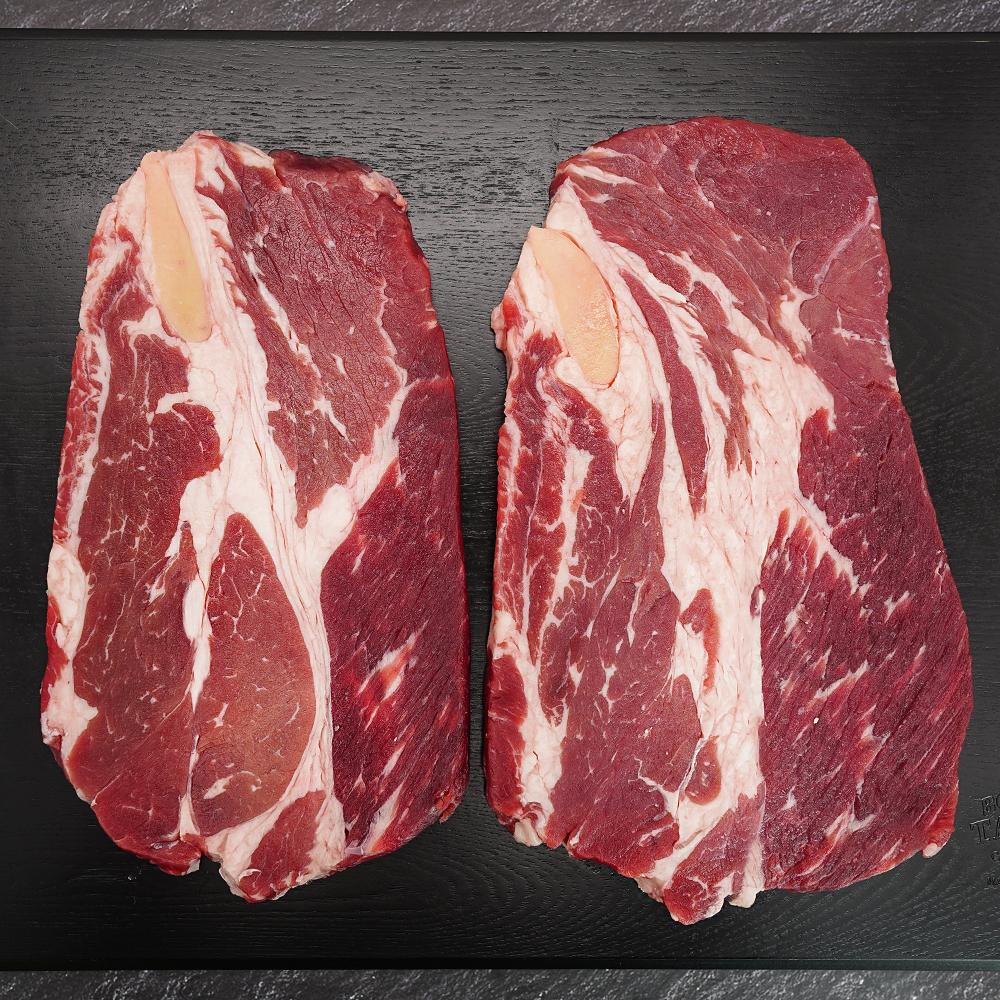beef: (153, 303, 663, 1000), (749, 321, 1000, 1000)
